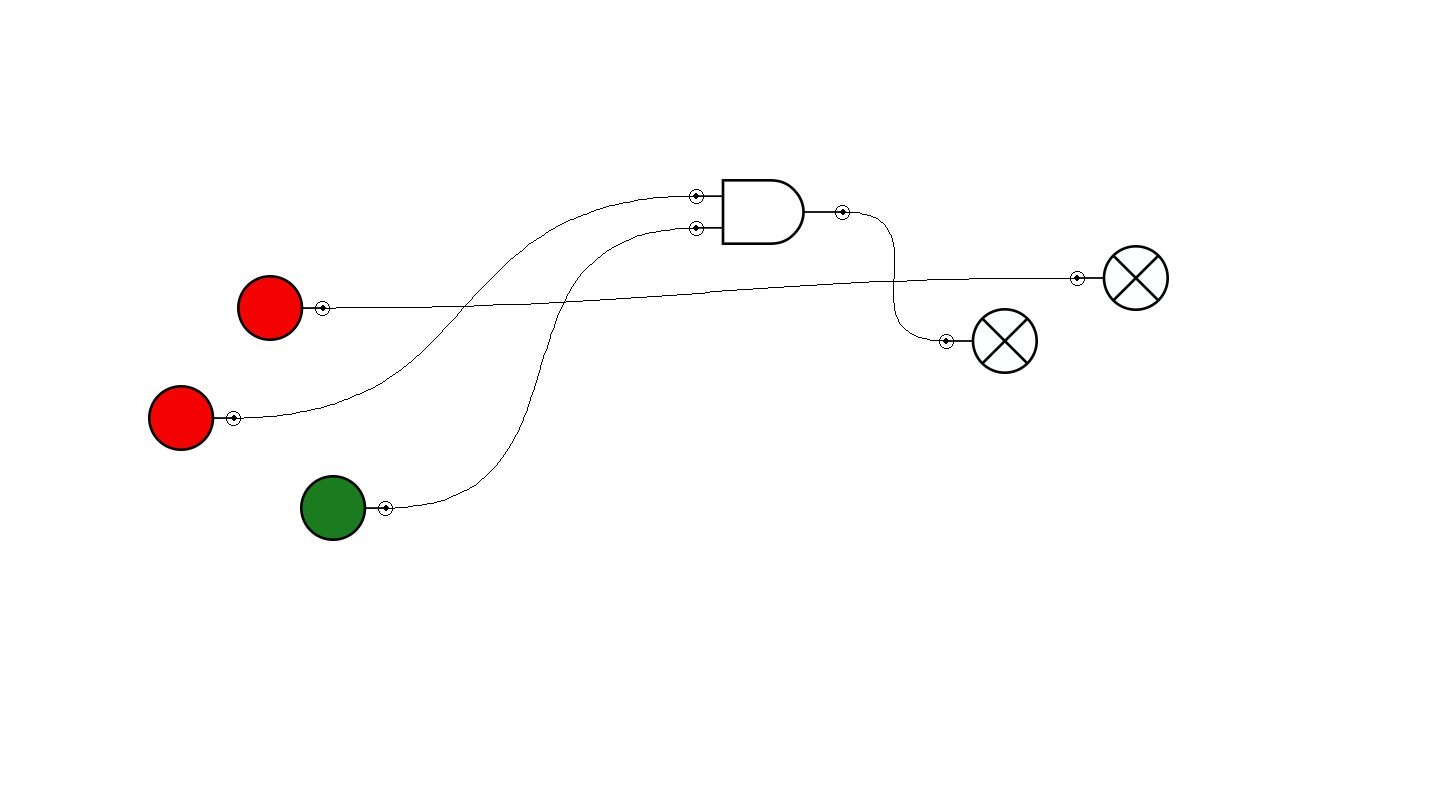and: (689, 179, 850, 245)
bulb: (1070, 245, 1169, 311), (939, 308, 1038, 374)
switch_False: (148, 385, 241, 451), (237, 275, 330, 341)
switch_True: (300, 475, 393, 541)
